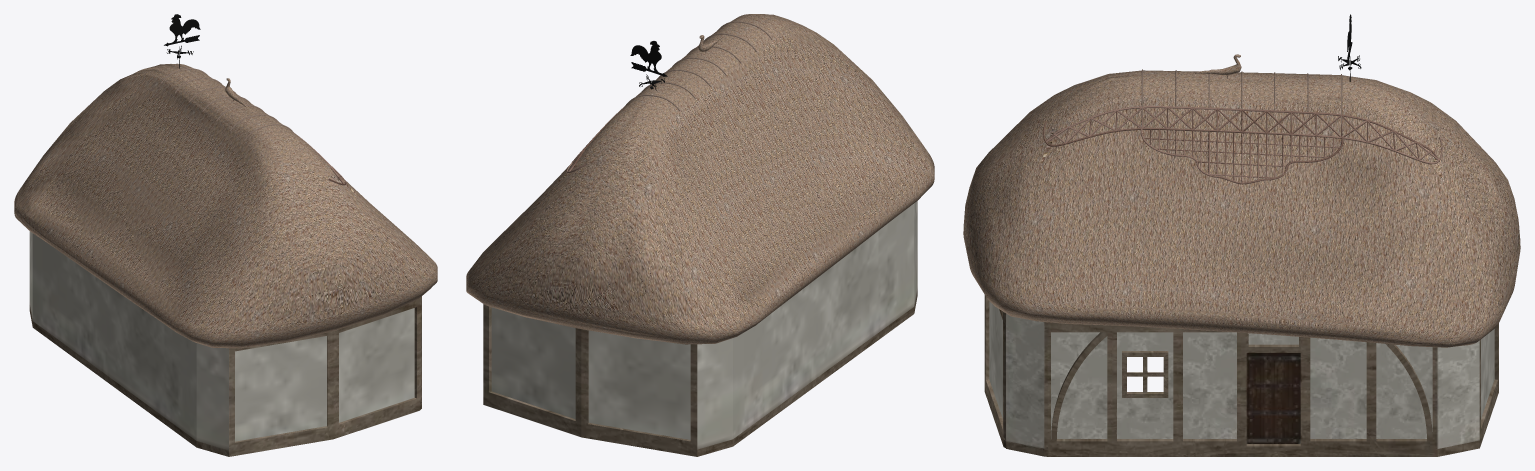
Rendered from farmhouse.glb.
3 renders of one model, left to right at view 1: azimuth 30°, elevation 25°; view 2: azimuth 150°, elevation 25°; view 3: azimuth 270°, elevation 25°, orthographic. The views are drawn at different scales.
Visible parts, largest first — view 1: prefab; view 2: prefab; view 3: prefab.
Boxes of the visible parts, <box> form: prefab: <box>14,14,437,456</box>; prefab: <box>466,14,934,456</box>; prefab: <box>963,14,1520,456</box>.
Bounding box in the file's own units: 4.97 × 5.93 × 7.98.
3 materials, 2 textured.
